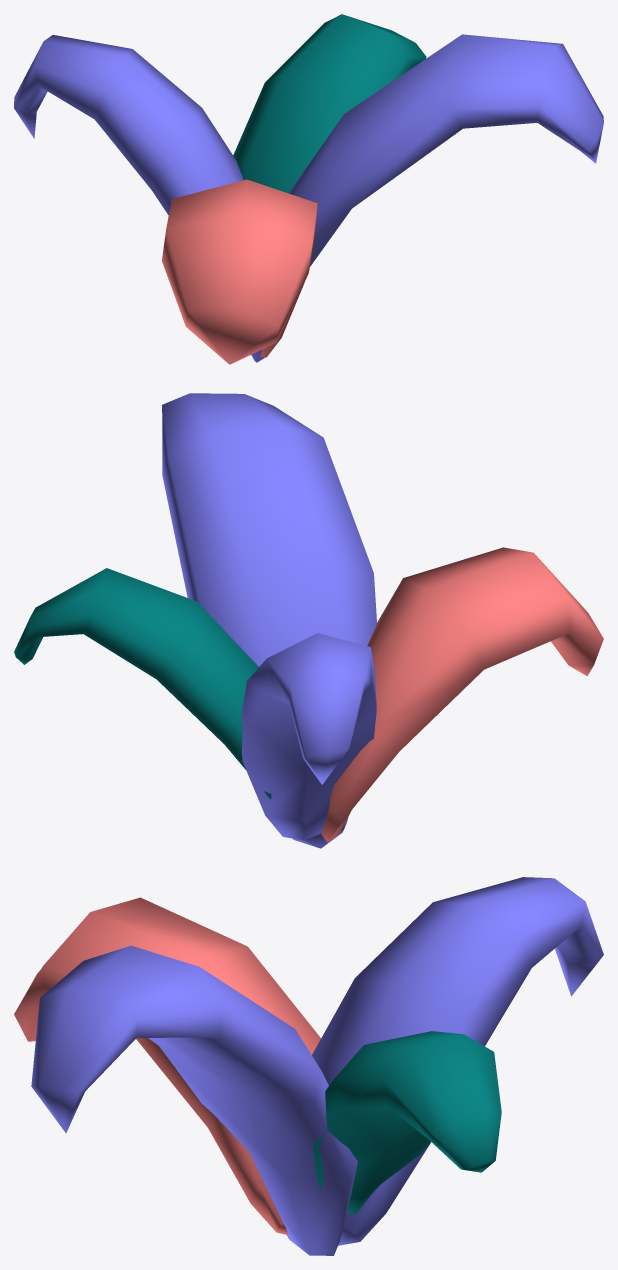
The model's file is Grass01.2.fbx.
3 renders of one model, top to bottom at view 1: azimuth 30°, elevation 25°; view 2: azimuth 150°, elevation 25°; view 3: azimuth 270°, elevation 25°, orthographic. The views are drawn at different scales.
Parts seen in each view (by area): view 1: Low_Grass012; view 2: Low_Grass012; view 3: Low_Grass012.
Part boxes in pixels (x1,y1,x2,y2): Low_Grass012: [14, 14, 603, 364]; Low_Grass012: [14, 393, 603, 848]; Low_Grass012: [14, 877, 603, 1255].
Size of the model in its own units: 434 by 324 by 457.
